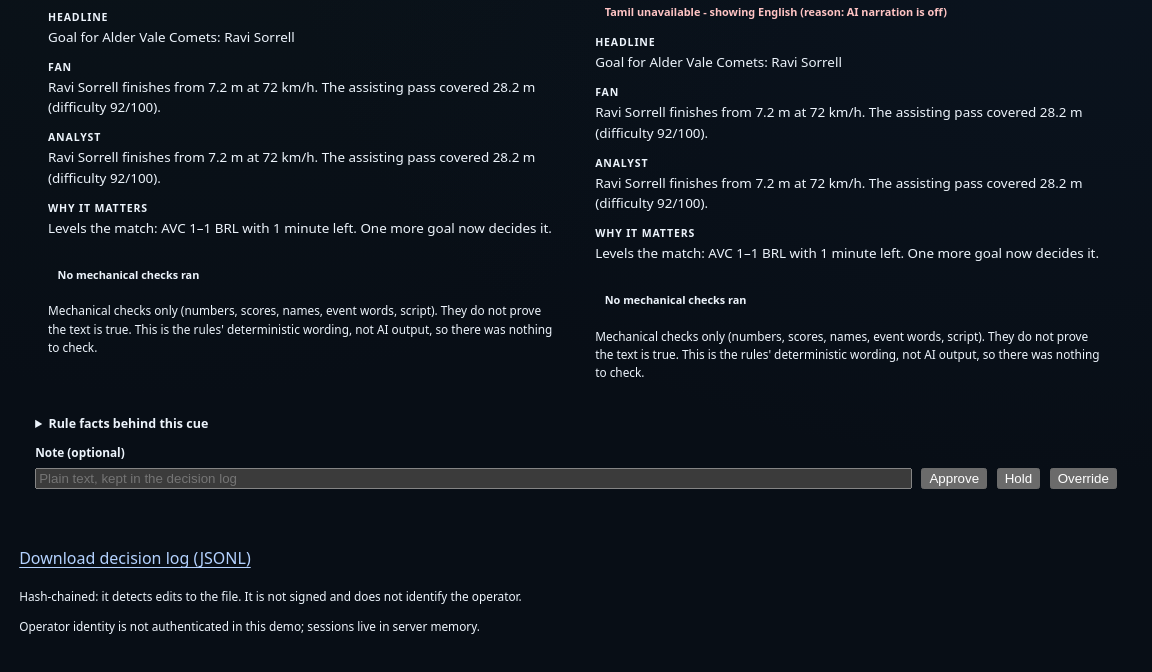
Test case: OperatorDesk decisions › opens an editor with both languages prefilled and nothing to save until something changes
This screenshot has width=1152, height=672.
(page scrolled)
Click the button "Override" at point(1083, 478), box [1050, 468, 1117, 489]
(page scrolled)
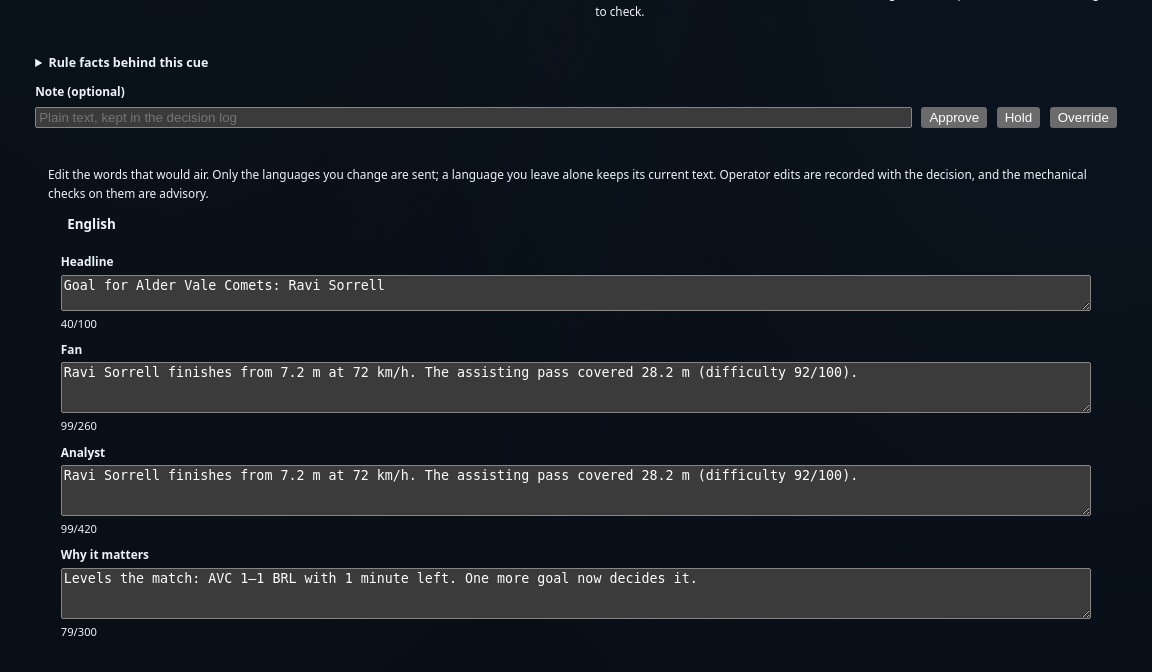
expect the button "Override" is expanded: met, box [1050, 107, 1117, 128]
expect the text box named "English Headline" holds "Goal for Alder Vale Comets: Ravi Sorrell": met, box [61, 275, 1091, 311]
expect the text "40/100" is shown: met, box [61, 316, 97, 331]
